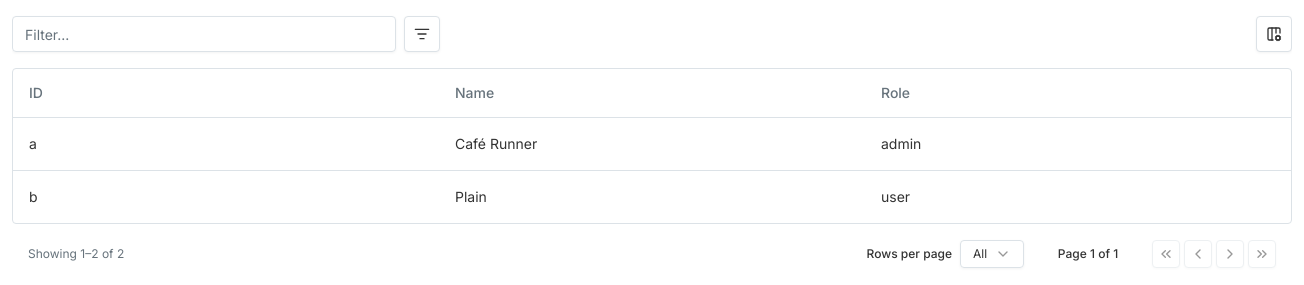
Test: DataTable — multi-column search › folds diacritics so an unaccented query matches an accented cell
The image size is (1304, 285).
In the field with placeholder "Filter...": (204, 34) [13, 16, 395, 52], type "cafe"
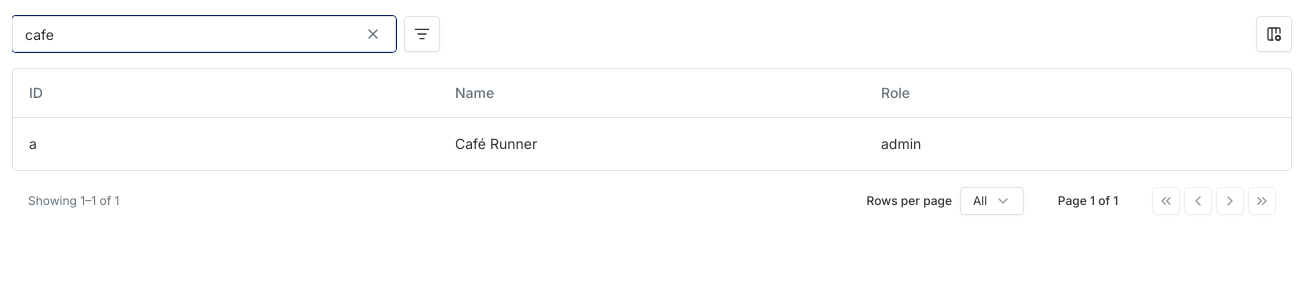
Expected: the text "Café Runner" is shown, [439, 117, 865, 170]
Expected: the text "Plain" is gone
